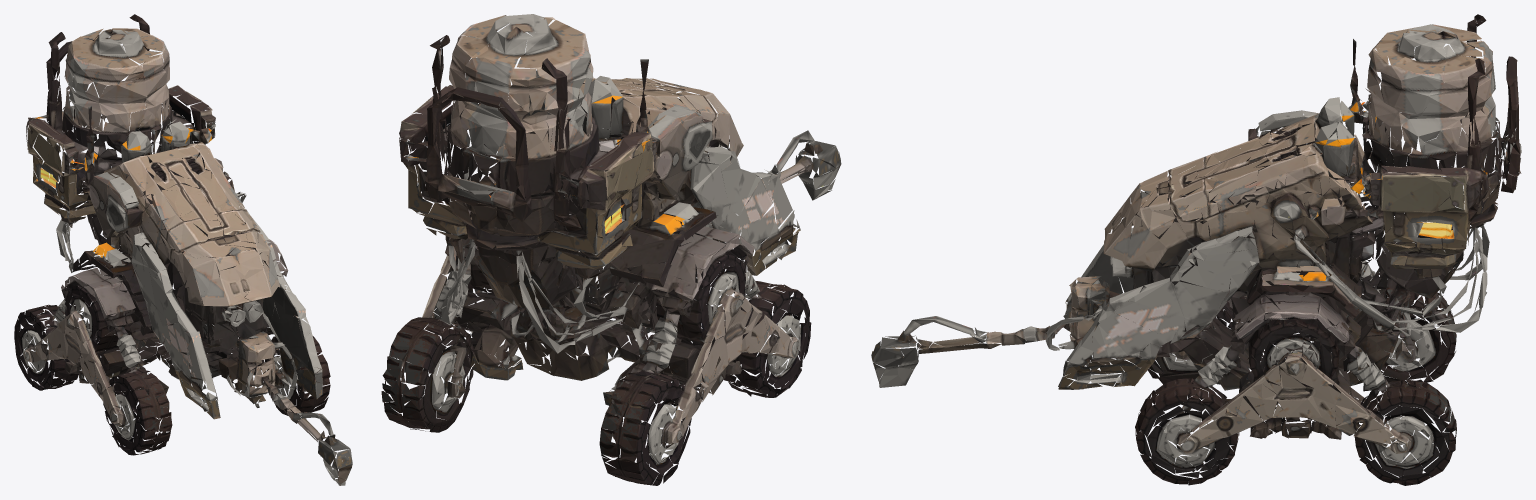
Rendered from droid.glb.
The picture shows the model from 3 angles, left to right: view 1: azimuth 30°, elevation 25°; view 2: azimuth 150°, elevation 25°; view 3: azimuth 270°, elevation 25°; orthographic projection. The views are drawn at different scales.
Visible parts, largest first — view 1: Body, Head, WheelLB, WheelLF, WheelRB; view 2: Head, Body, WheelLF, WheelRF, WheelLB; view 3: Body, Head, WheelRB, WheelRF, WheelLF, WheelLB.
Boxes of the visible parts, <box> form: Body: <box>54,149,352,485</box>; Head: <box>26,14,246,261</box>; WheelLB: <box>68,329,220,455</box>; WheelLF: <box>14,304,110,390</box>; WheelRB: <box>230,307,330,415</box>; Head: <box>399,14,689,293</box>; Body: <box>436,78,841,405</box>; WheelLF: <box>599,313,740,485</box>; WheelRF: <box>381,273,526,432</box>; WheelLB: <box>657,219,811,397</box>; Body: <box>871,110,1489,402</box>; Head: <box>1274,14,1521,301</box>; WheelRB: <box>1058,354,1310,485</box>; WheelRF: <box>1282,358,1456,485</box>; WheelLF: <box>1299,285,1456,387</box>; WheelLB: <box>1065,289,1294,389</box>.
Bounding box in the file's own units: 0.8821 × 1.29 × 1.9.
Materials: 2 (2 with a texture image).
